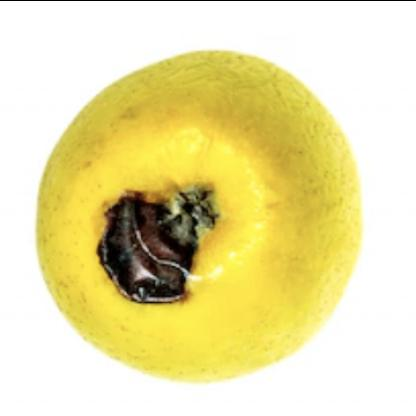Rotten Apple: (38, 51, 364, 376)
